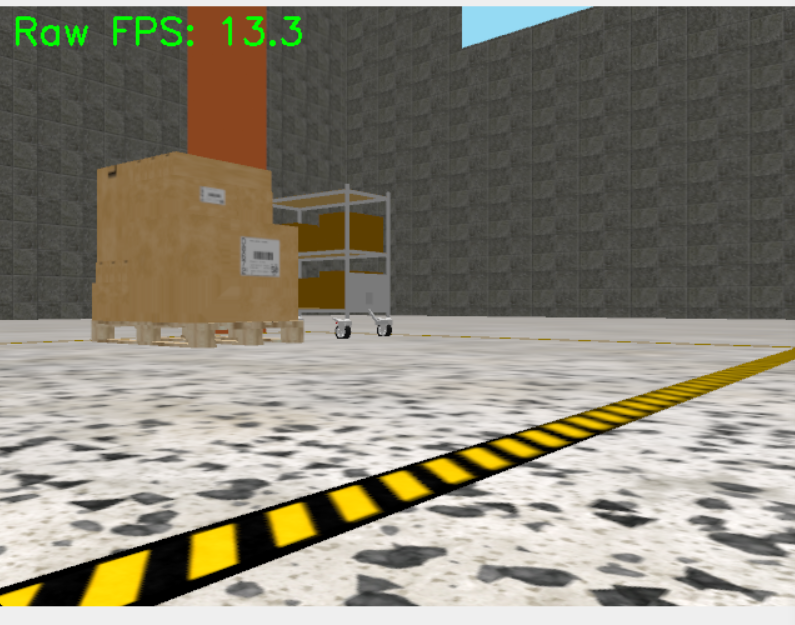barcode: (239, 236, 281, 278), (199, 185, 227, 205)
